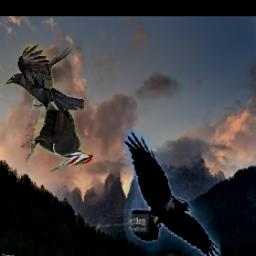Crow: (124, 129, 221, 256), (4, 44, 84, 110)
Woodpecker: (22, 95, 94, 171)
